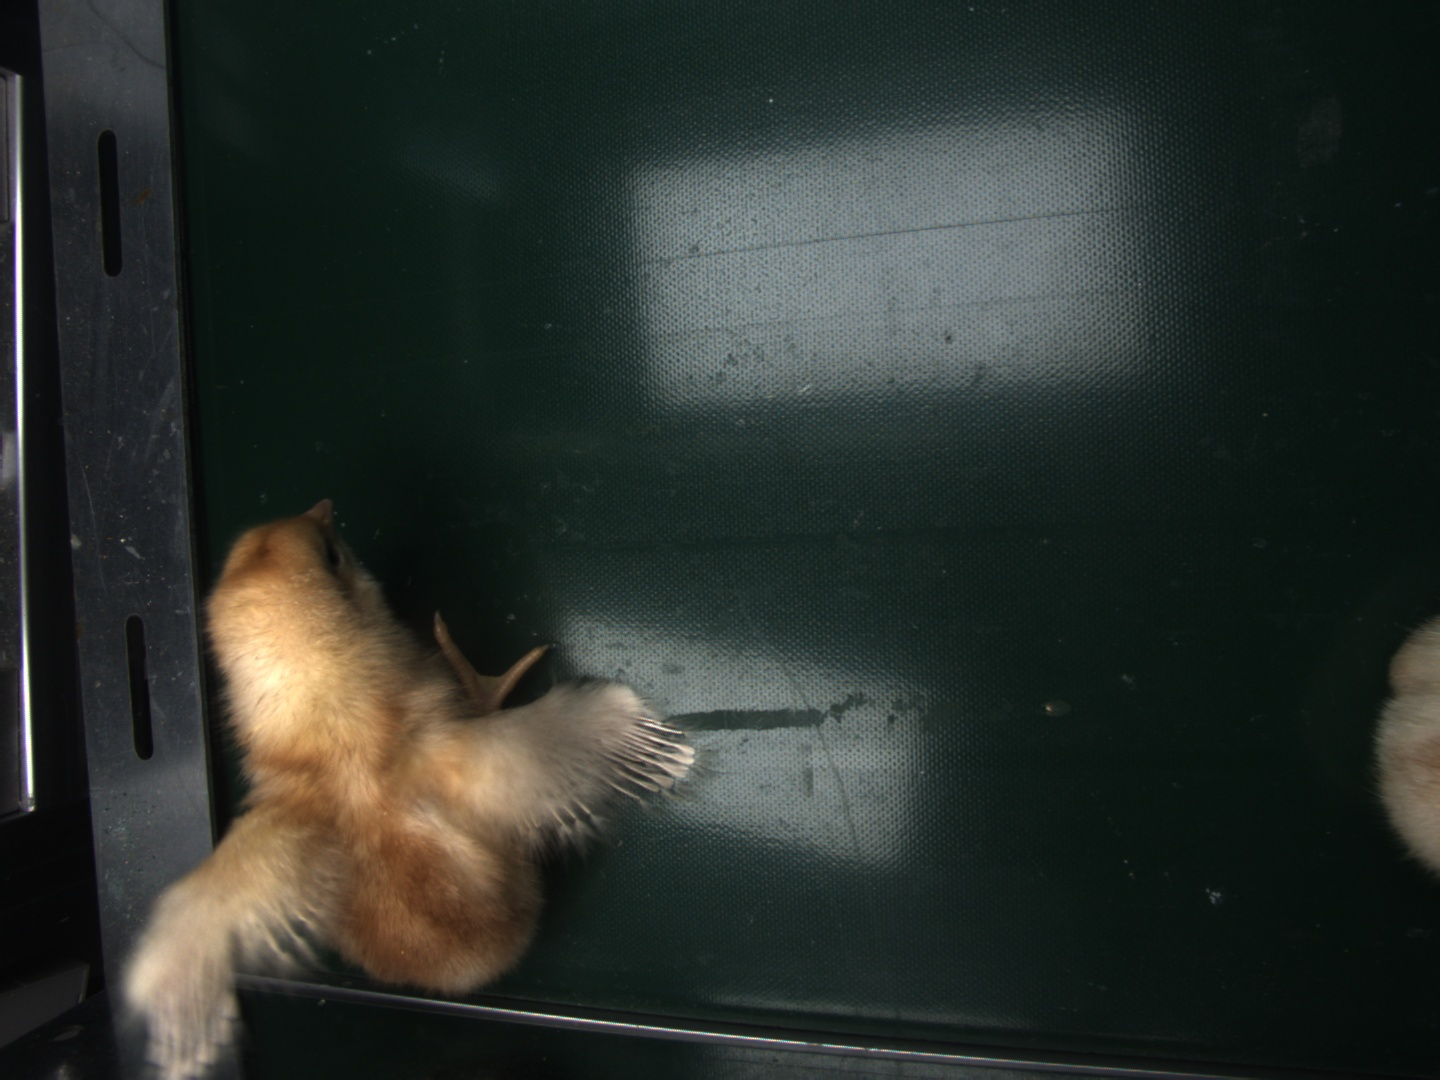female: (608, 712, 692, 798)
